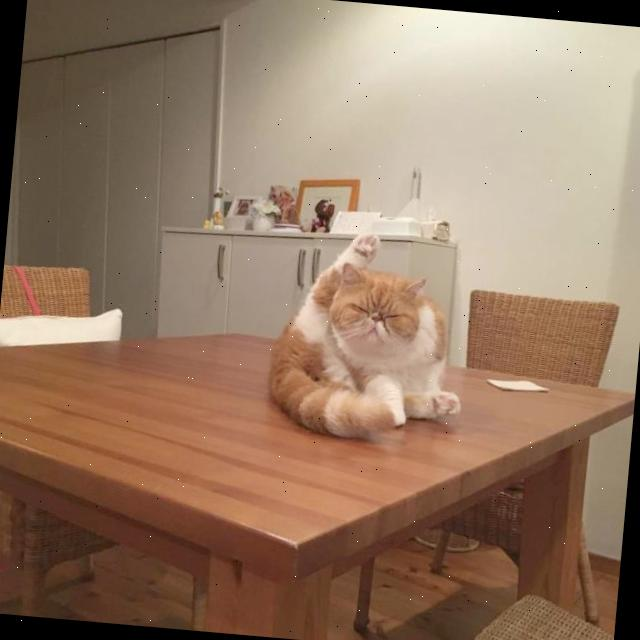cat: (248, 222, 482, 460)
